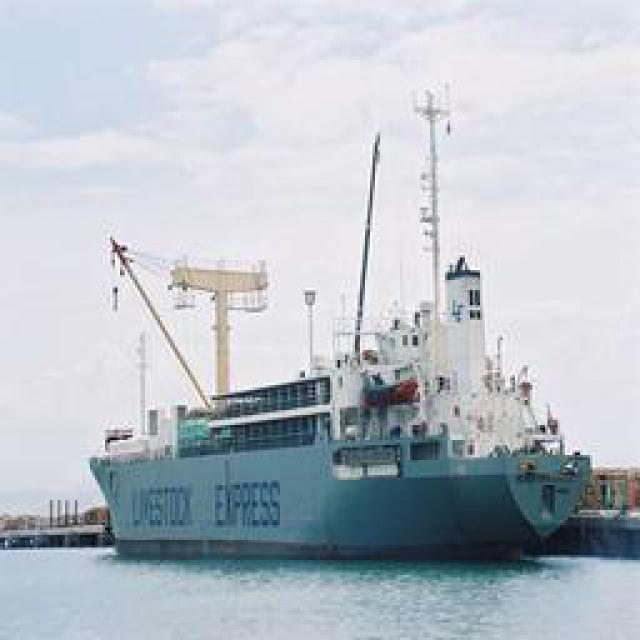Ship: (81, 103, 594, 561)
